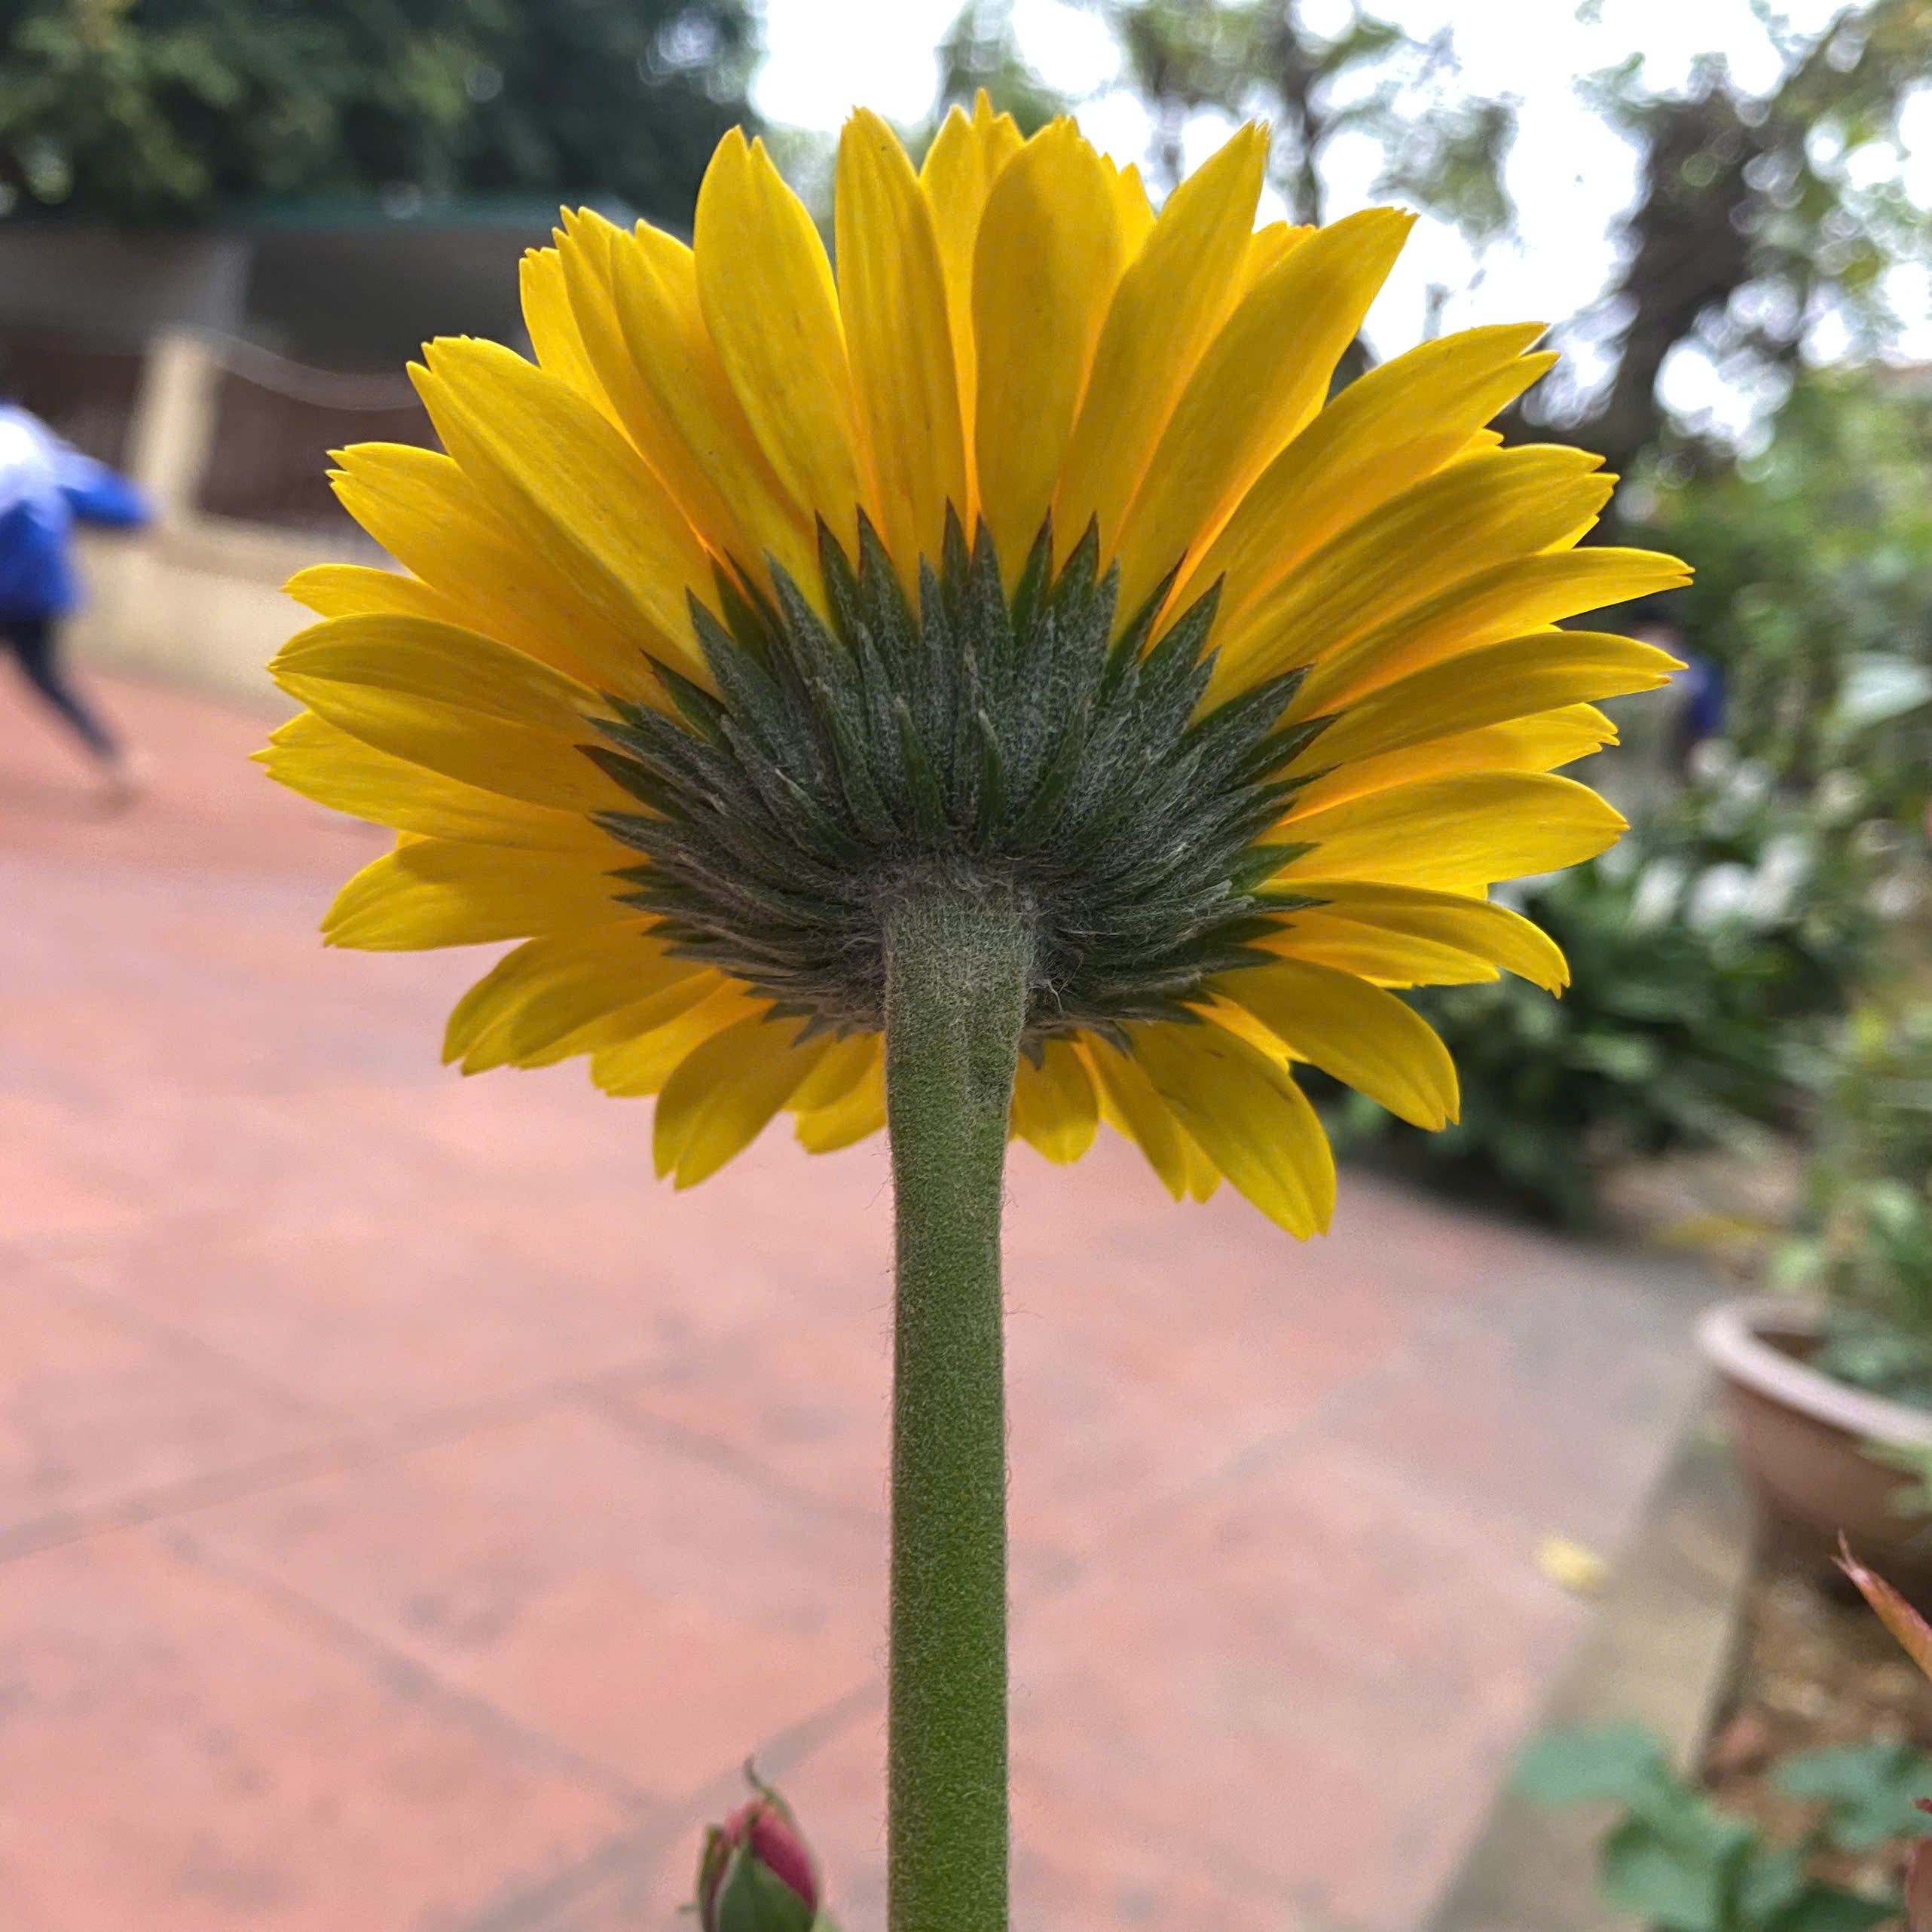hoa_huong_duong: (203, 67, 1698, 1932)
